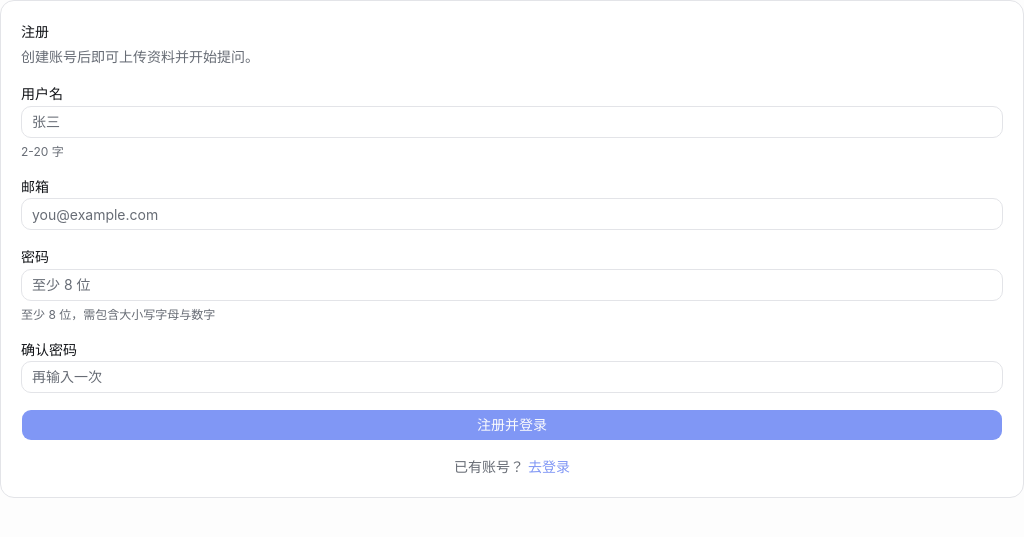
Test: RegisterPage · 注册 › 两次密码不一致时在确认框报错
In the field labelled "用户名": [512, 122] box 21,106 -> 1003,138, type "新同学"
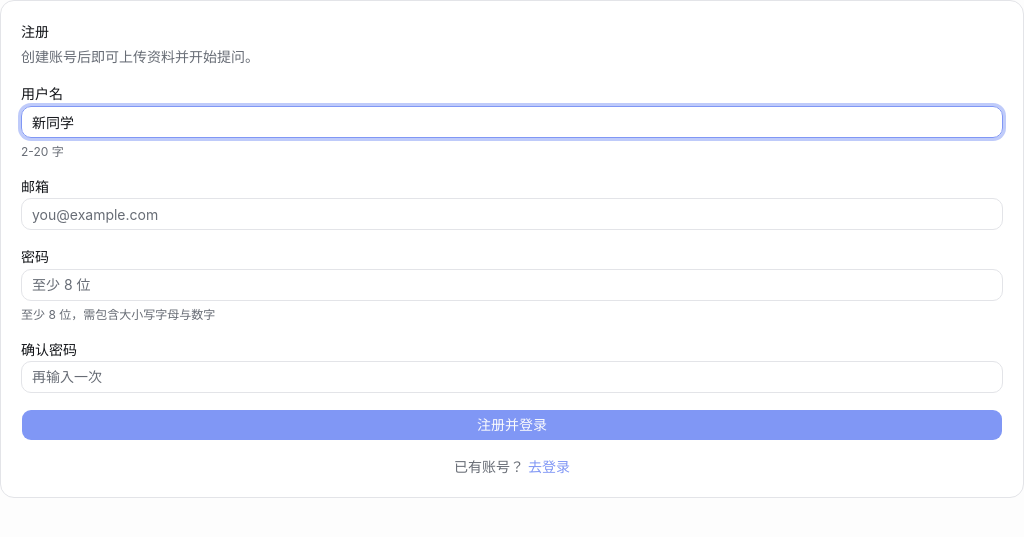
In the field labelled "邮箱": [512, 214] box 21,198 -> 1003,230, type "mismatch@example.com"
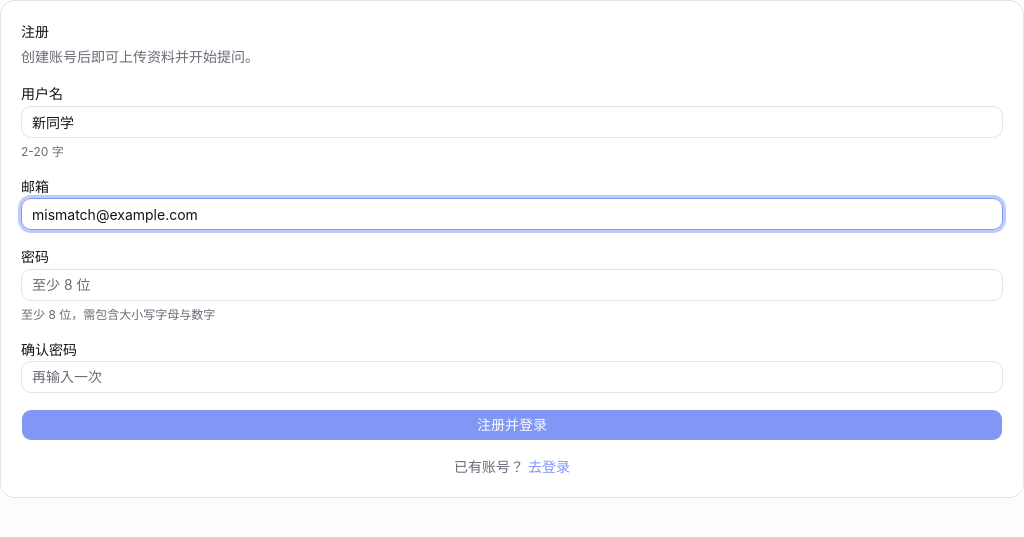
In the password field labelled "密码": [512, 285] box 21,269 -> 1003,301, type "Abc@1234"
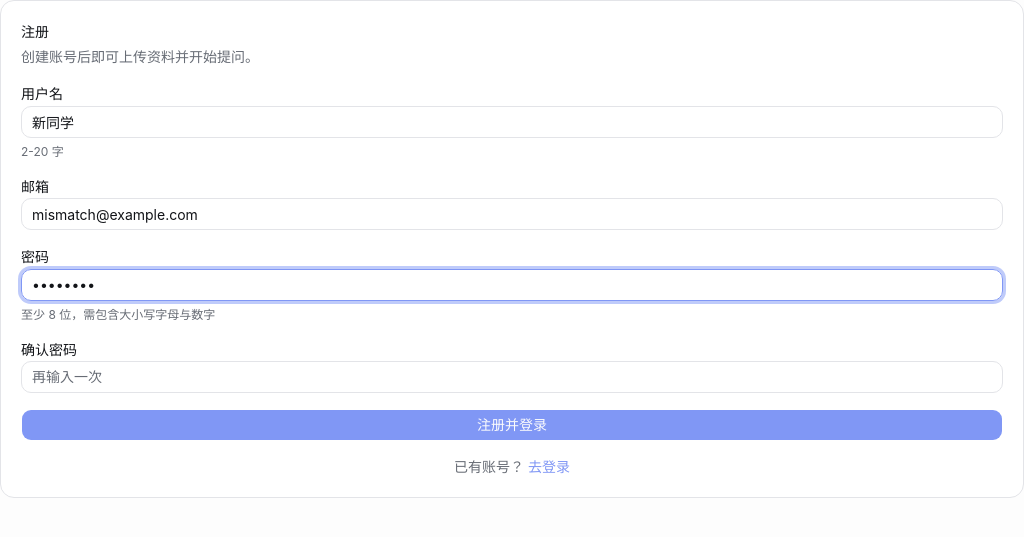
In the password field labelled "确认密码": [512, 377] box 21,361 -> 1003,393, type "Abc@12345"
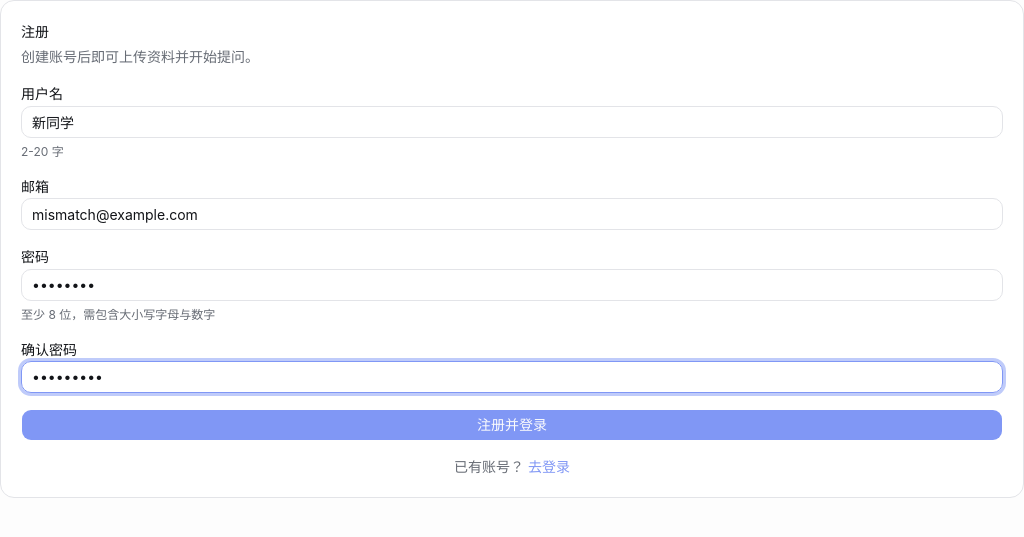
Click the button "注册并登录": [512, 425] box 21,409 -> 1003,441
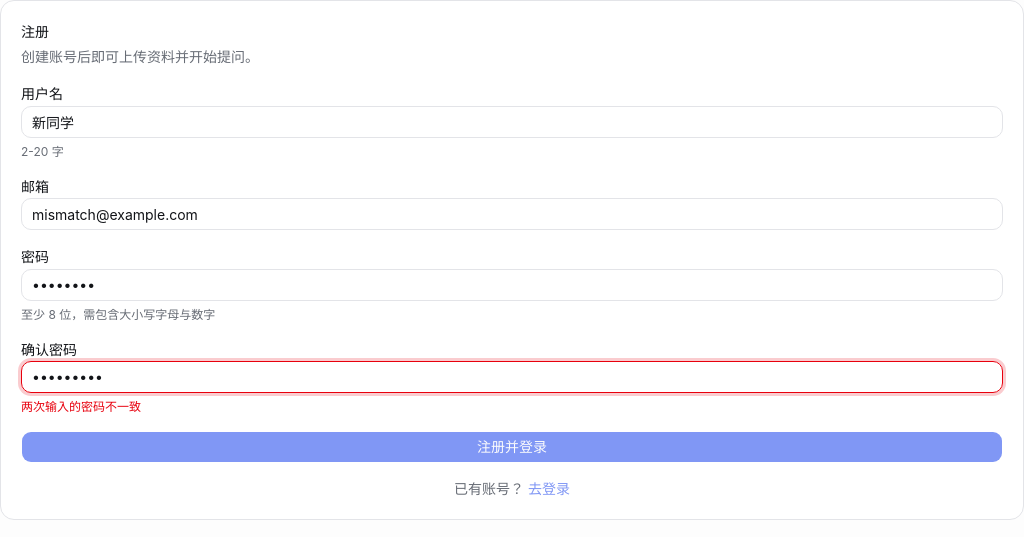
Expected: the text "两次输入的密码不一致" is shown, 21,399 -> 141,414
